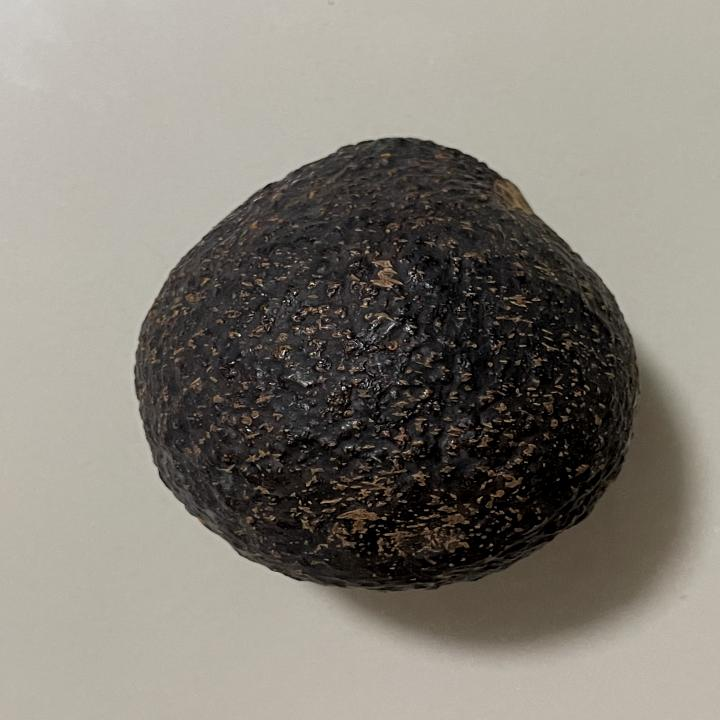Level3: (124, 124, 648, 598)
